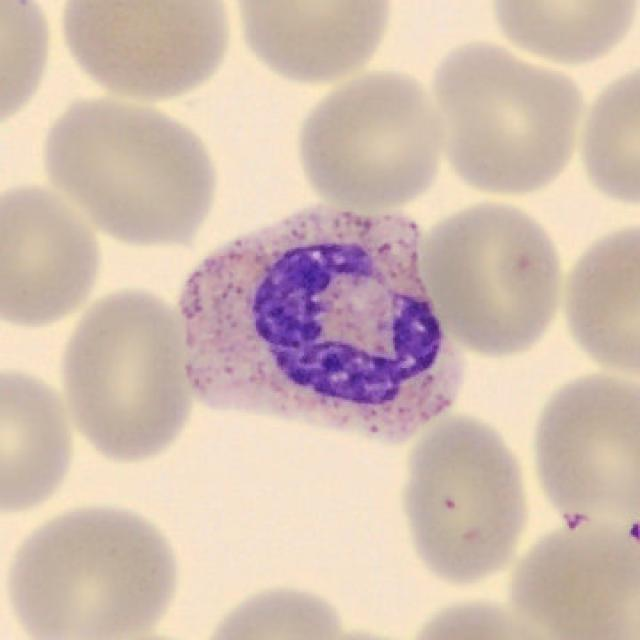Neutrofilo segmentado: (180, 206, 462, 448)
